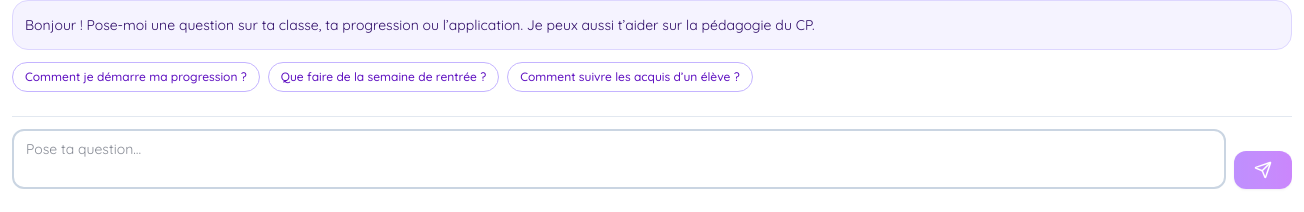
Test case: ChatAssistant › affiche l’erreur renvoyée par l’API sans perdre la question posée
This screenshot has width=1304, height=212.
Type "Une question" into the text box labelled "ta question".
click(619, 159); type("Une question")  # box [12,129,1226,189]
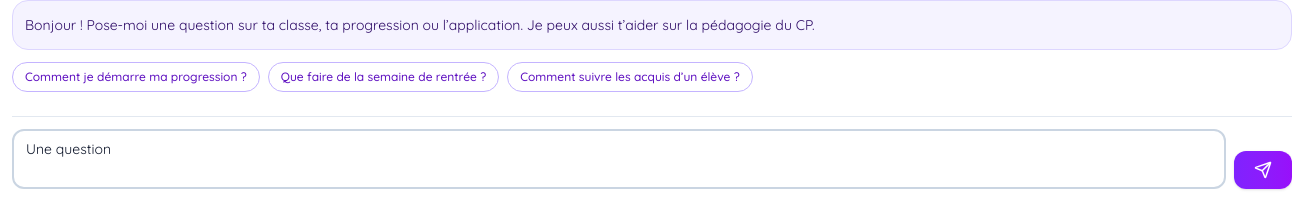
Click the button named "Envoyer".
click(1263, 170)  # box [1234,151,1292,189]
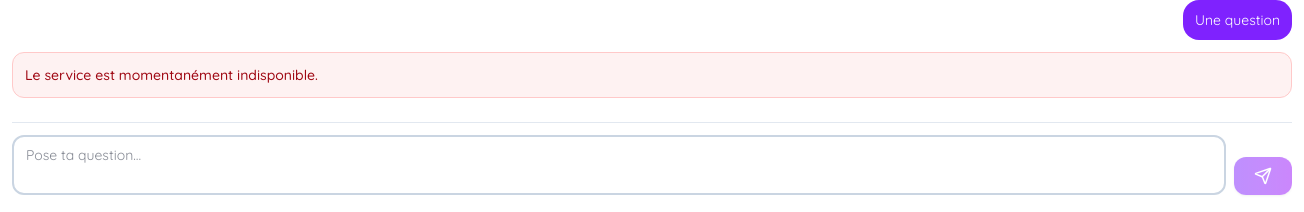
Check: the text "Une question" is shown, box [1183,0,1292,40]
Check: the message reads "Le service est momentanément indisponible.", box [25,66,318,84]
